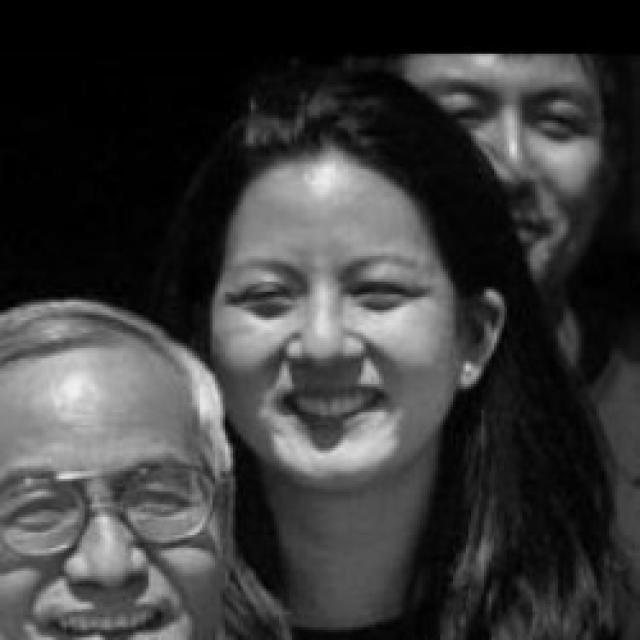real: (214, 146, 463, 488), (3, 357, 218, 640), (230, 248, 420, 336), (4, 475, 211, 545)
